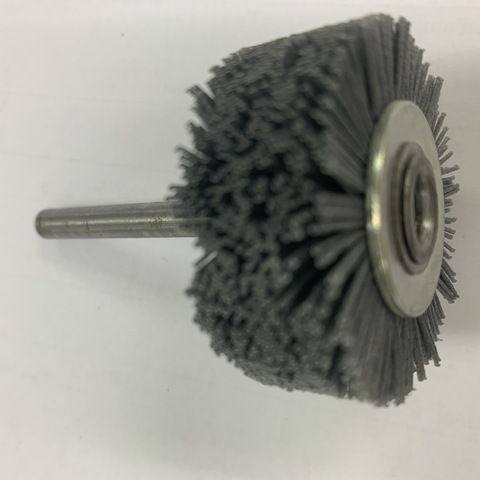Wheel Brush: (27, 10, 454, 409), (37, 66, 471, 394), (141, 4, 460, 427)
